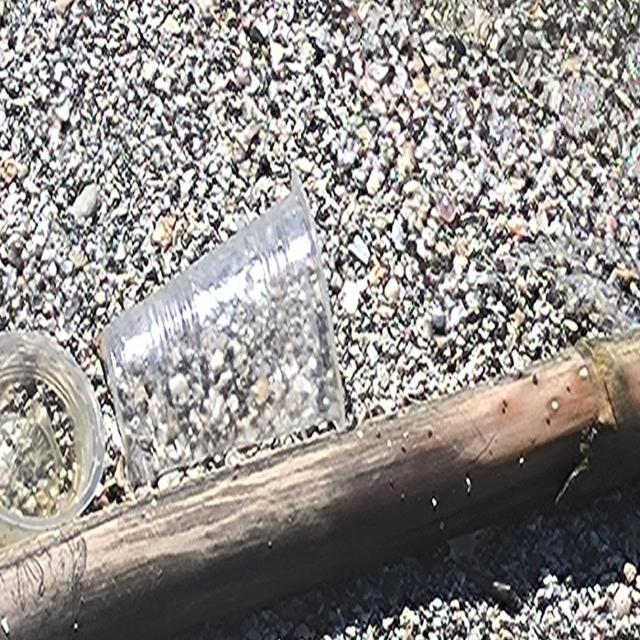plastic_waste: (104, 171, 348, 501), (0, 328, 100, 584)
